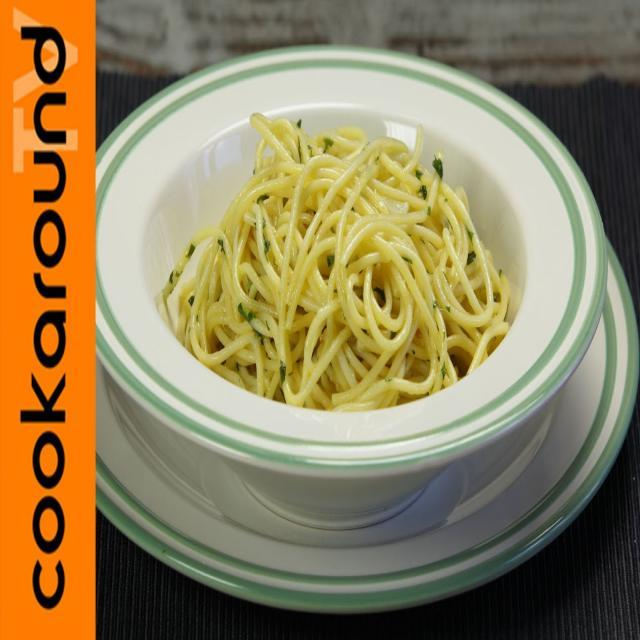Oil pasta: (182, 92, 521, 459)
